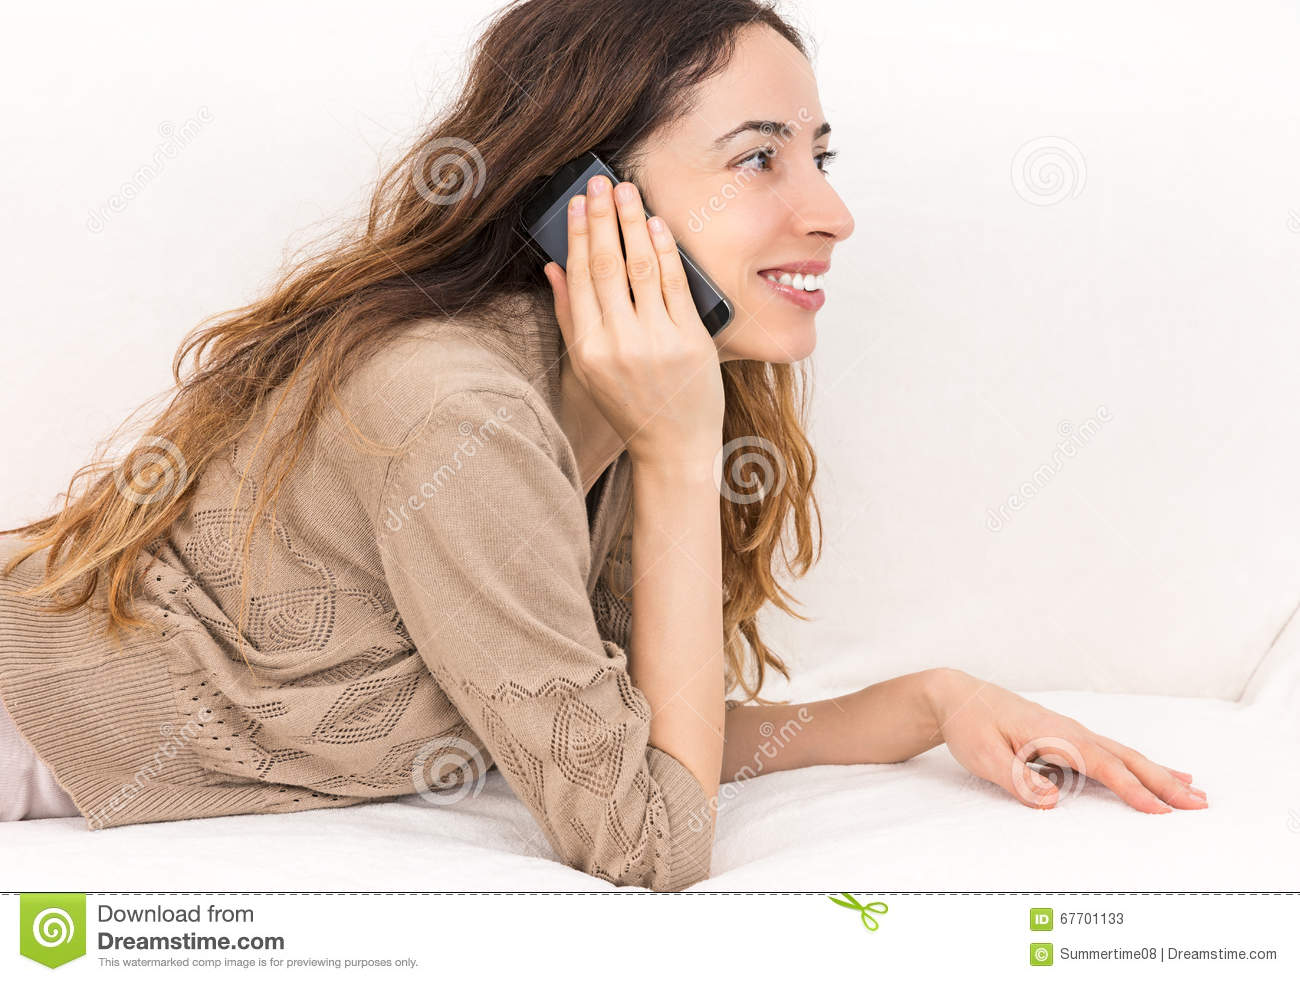phone: (521, 148, 737, 351)
talk: (518, 110, 854, 474)
